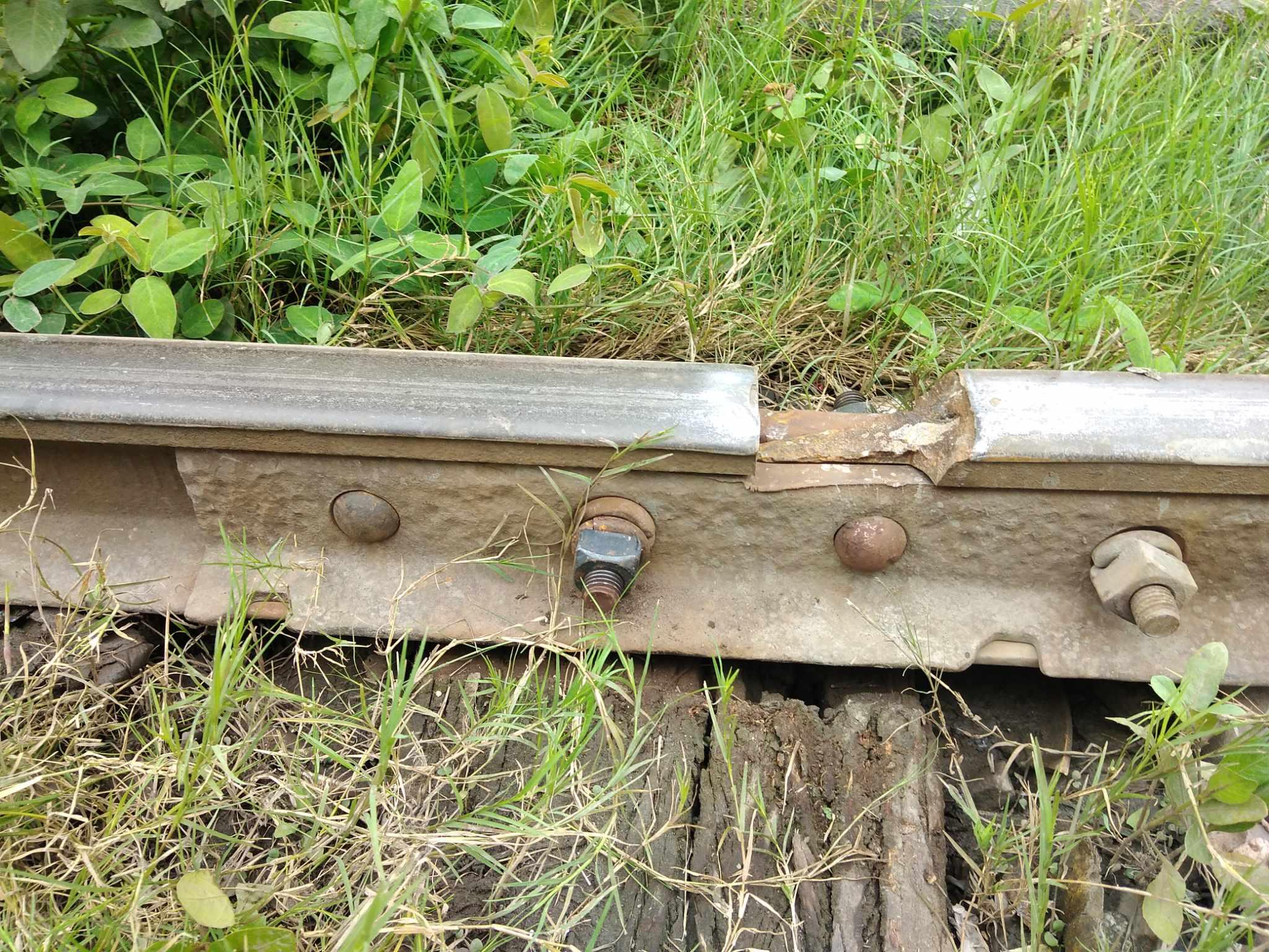railway-gap: (714, 332, 1005, 519)
